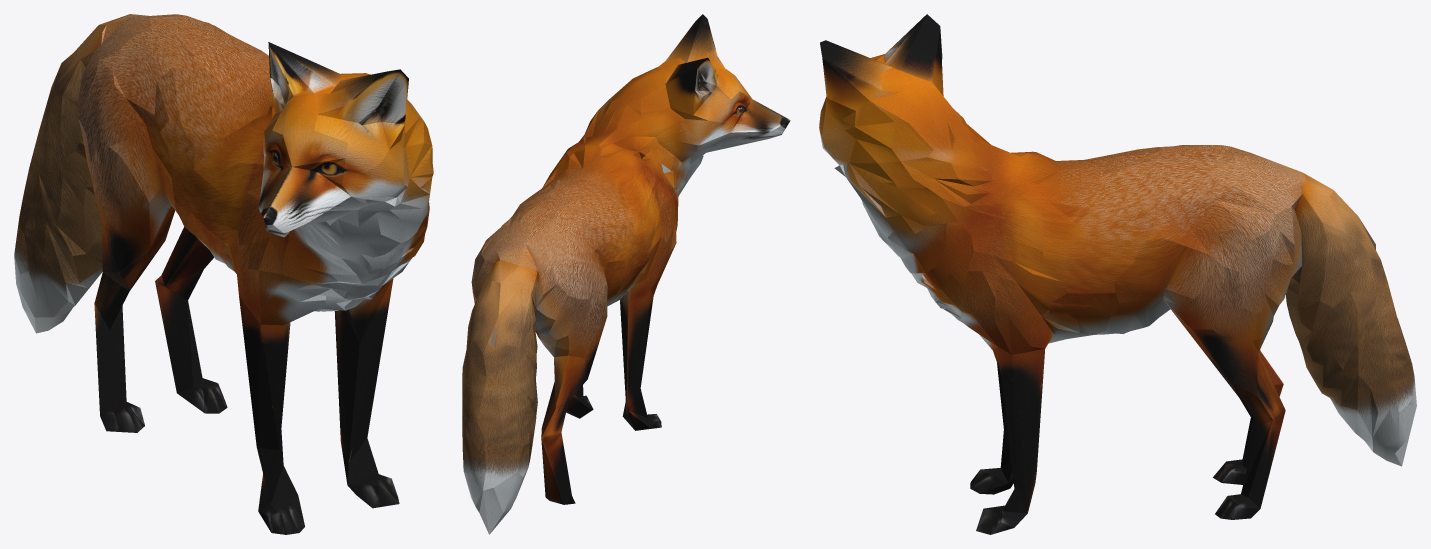
File: fox.glb
3 renders of one model, left to right at view 1: azimuth 30°, elevation 25°; view 2: azimuth 150°, elevation 25°; view 3: azimuth 270°, elevation 25°, orthographic. The views are drawn at different scales.
Size of the model in its own units: 0.7863 by 1.57 by 1.88.
1 material, 1 textured.
